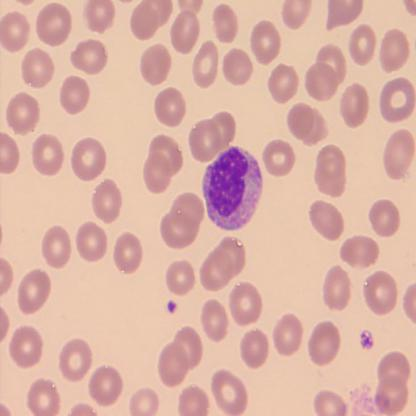Metamyelocyte: (199, 143, 265, 233)
